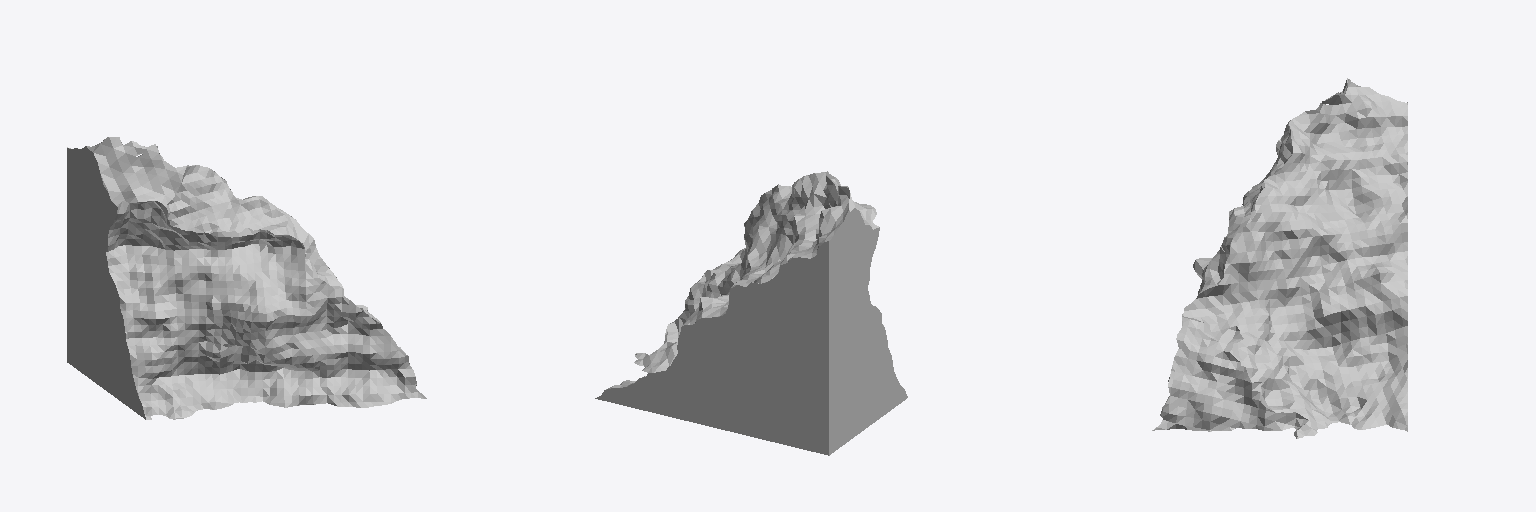
File: Cube_shard.016.obj
The picture shows the model from 3 angles: view 1: azimuth 30°, elevation 25°; view 2: azimuth 150°, elevation 25°; view 3: azimuth 270°, elevation 25°; orthographic projection.
Visible parts, largest first — view 1: Cube_shard.016_Cube_shard.156; view 2: Cube_shard.016_Cube_shard.156; view 3: Cube_shard.016_Cube_shard.156.
Boxes of the visible parts, <box> form: Cube_shard.016_Cube_shard.156: <box>67,137,426,419</box>; Cube_shard.016_Cube_shard.156: <box>595,171,907,455</box>; Cube_shard.016_Cube_shard.156: <box>1152,78,1407,438</box>.
Size of the model in its own units: 1.38 by 1.29 by 1.22.